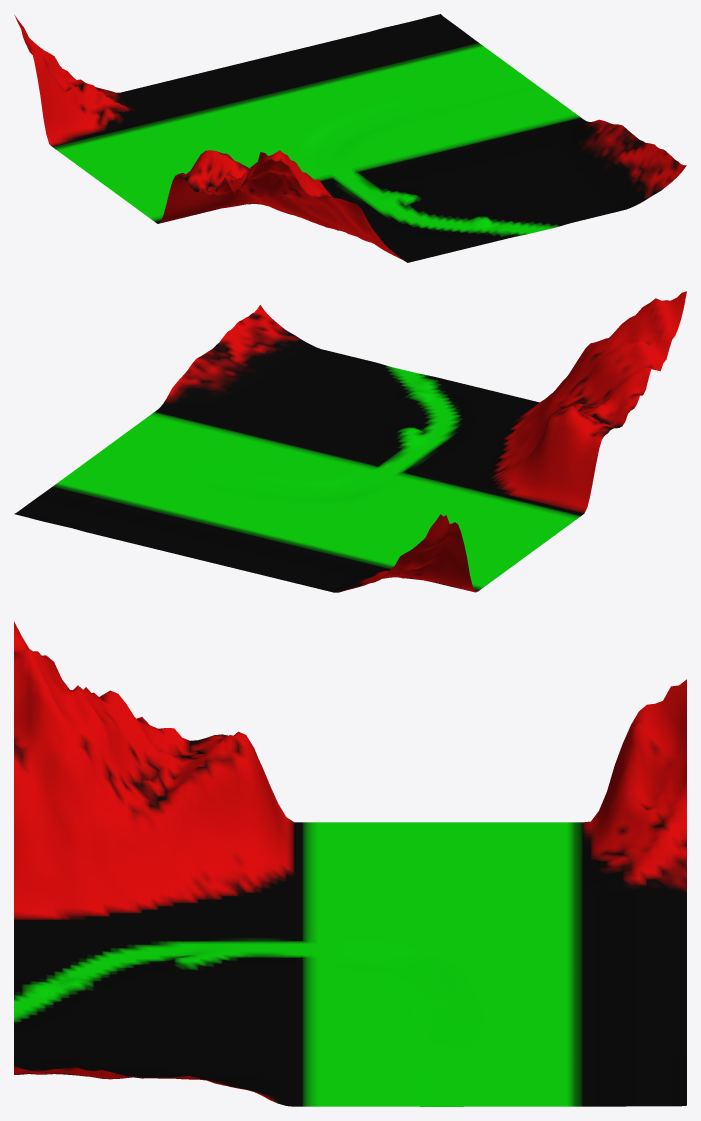
Rendered from SM_FutureCity_Terrain_2_0.fbx.
The picture shows the model from 3 angles, top to bottom: view 1: azimuth 30°, elevation 25°; view 2: azimuth 150°, elevation 25°; view 3: azimuth 270°, elevation 25°; orthographic projection. The views are drawn at different scales.
Parts seen in each view (by area): view 1: SM_FutureCity_Terrain_2_0; view 2: SM_FutureCity_Terrain_2_0; view 3: SM_FutureCity_Terrain_2_0.
Part boxes in pixels (box(x1,y1,x2,y2)): SM_FutureCity_Terrain_2_0: box(14, 14, 686, 262); SM_FutureCity_Terrain_2_0: box(14, 291, 686, 592); SM_FutureCity_Terrain_2_0: box(14, 621, 686, 1106).
Size of the model in its own units: 50400 by 16736 by 50400.
